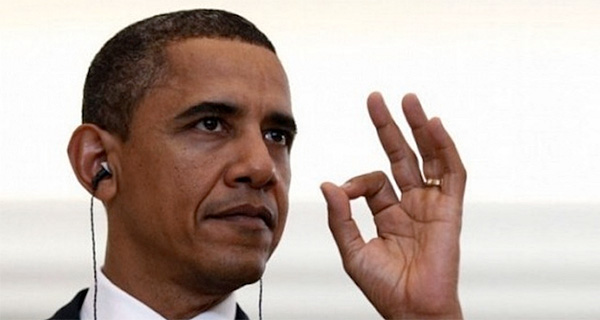oksign: (316, 89, 469, 310)
